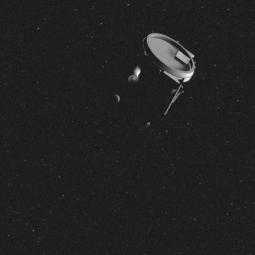proba_3_csc: (106, 18, 203, 142)
